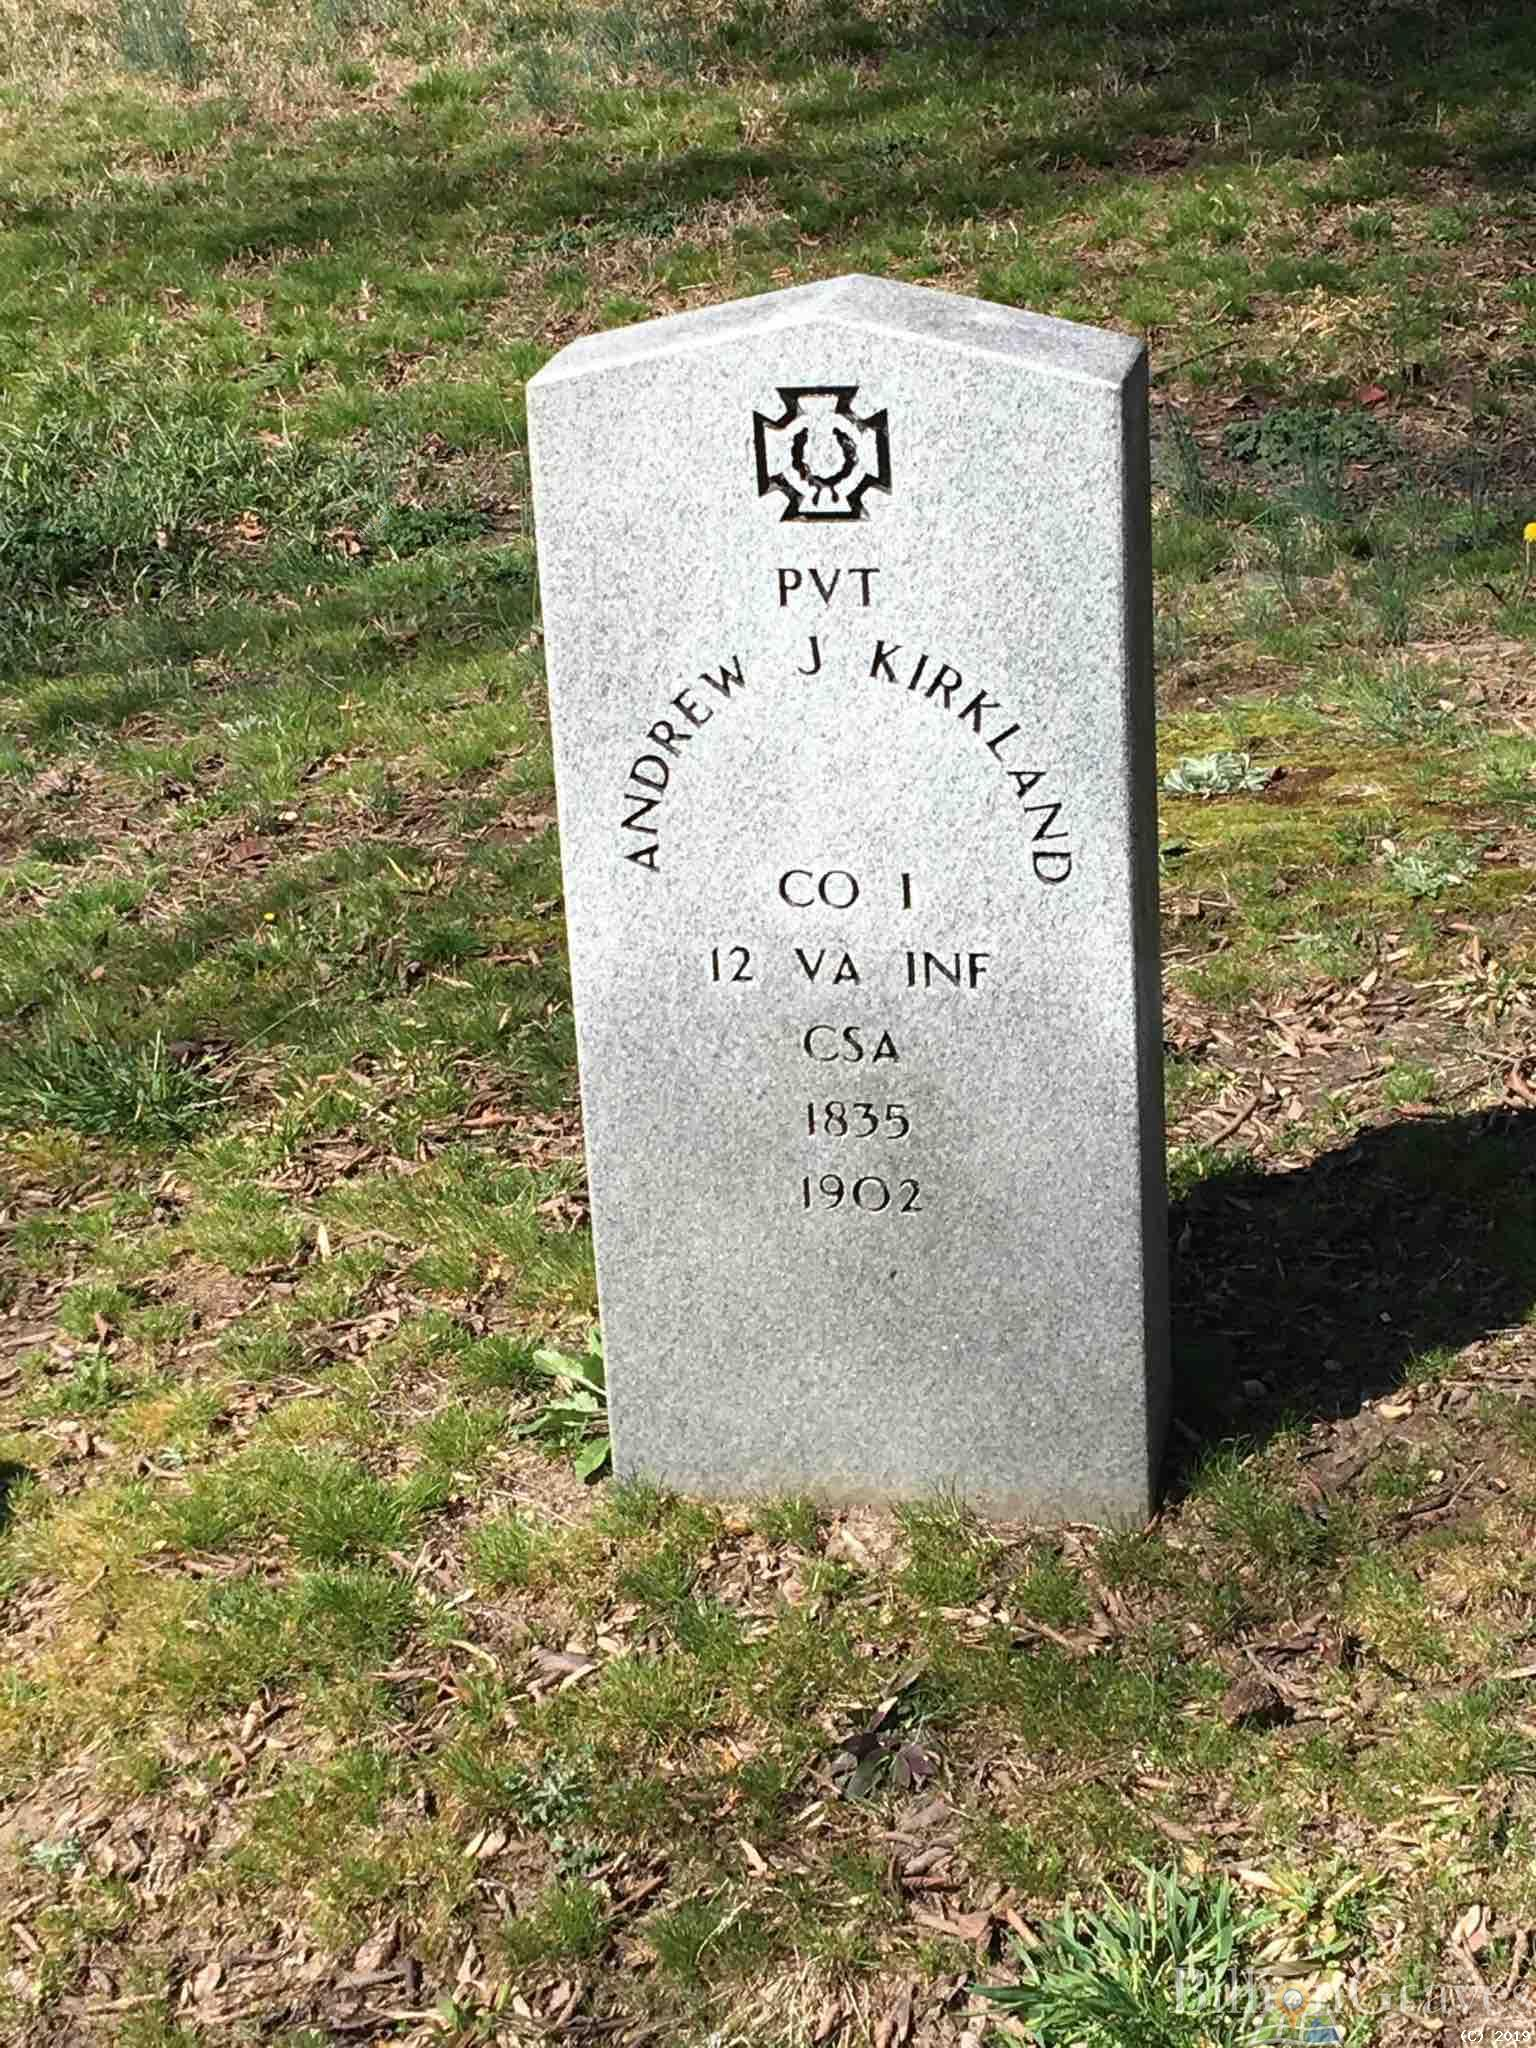military: (511, 276, 1163, 1534)
